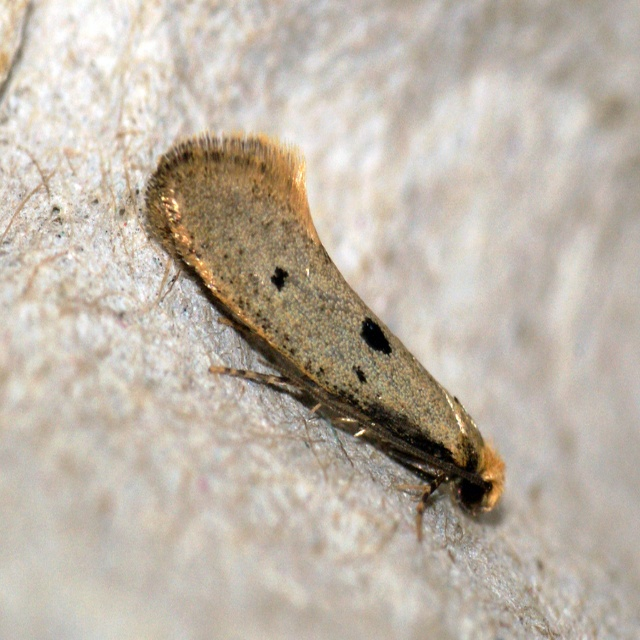Moths and butterflies: (146, 122, 508, 555)
